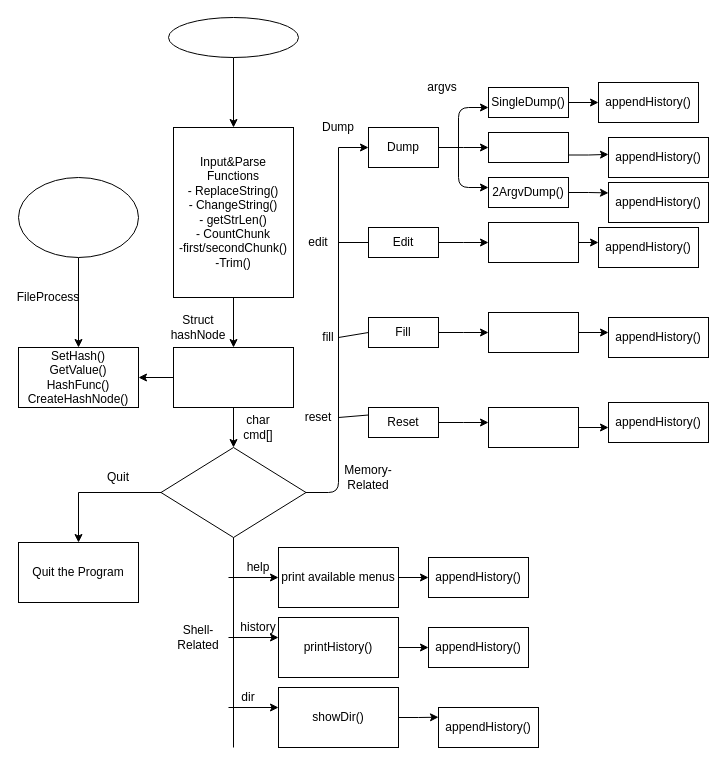
Some shapes in this 726 by 766 pixel diagram are drawn without their labels. The shapes that lost their labels are listed below. From the top down, each one's box as (x1, y1, x2, y2) in pixels, then its label:
(168, 16, 298, 58): start
(488, 132, 568, 162): 1ArgvDump()
(18, 176, 138, 258): opcode.txt
(488, 222, 578, 262): editMem()
(488, 312, 578, 352): fillMem()
(172, 346, 294, 408): InitHash()
(488, 406, 578, 448): resetMem()
(160, 446, 306, 538): Command
